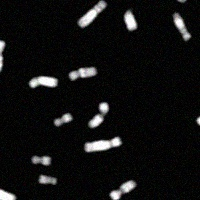chromosome: (76, 0, 107, 28), (84, 135, 121, 152), (172, 12, 191, 40), (88, 102, 109, 127), (110, 179, 135, 200), (68, 66, 97, 81), (28, 75, 57, 88), (124, 9, 138, 31), (53, 111, 71, 126), (0, 184, 16, 200), (32, 155, 52, 167), (39, 174, 57, 185), (0, 39, 5, 73), (165, 0, 186, 4), (197, 113, 200, 127)
